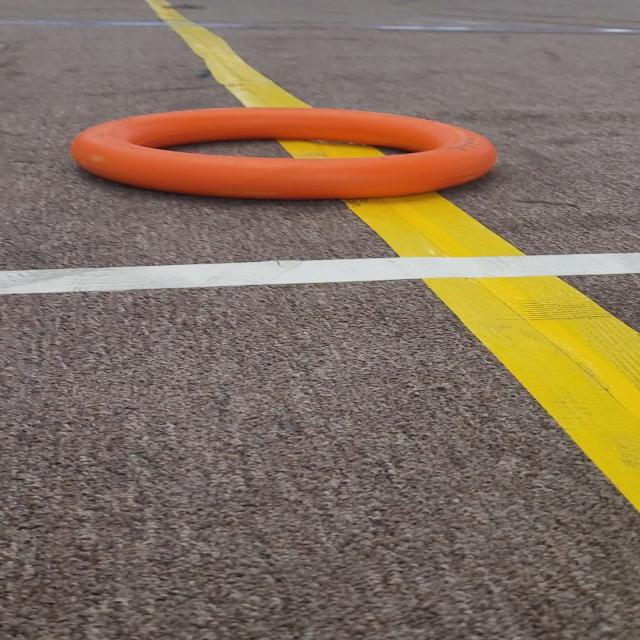note: (59, 95, 541, 206)
